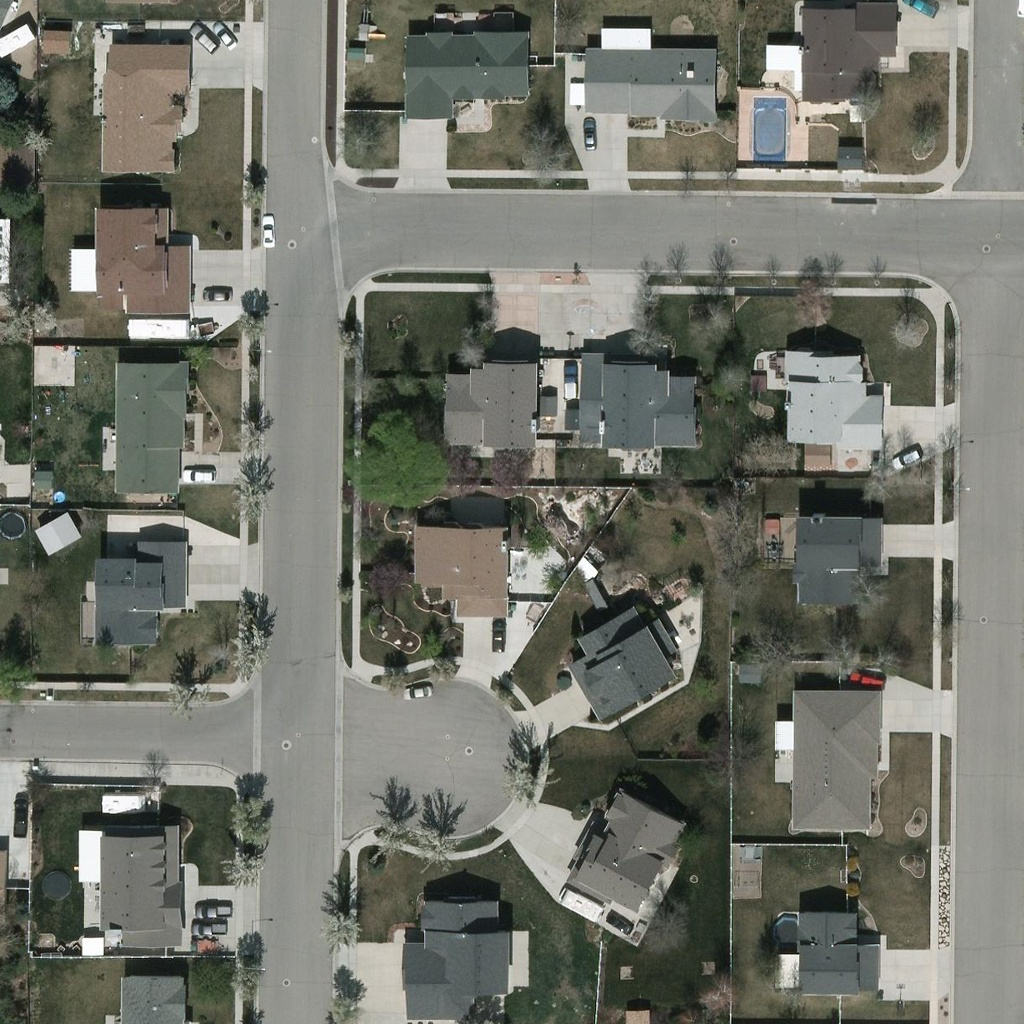car: (190, 23, 218, 53), (9, 798, 29, 838), (213, 21, 237, 49), (850, 672, 886, 690), (901, 1, 935, 20), (893, 448, 921, 471), (604, 911, 633, 933), (561, 364, 580, 397), (183, 467, 216, 483), (582, 118, 597, 151), (204, 286, 231, 304), (262, 213, 276, 247), (403, 683, 434, 698)
pickup: (490, 620, 508, 652), (196, 904, 231, 919), (193, 922, 228, 937)
